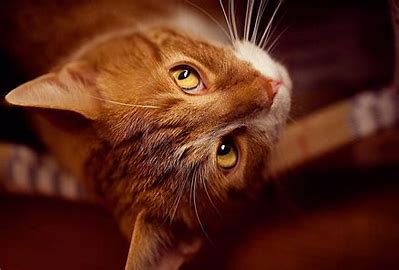cat: (5, 20, 389, 270)
